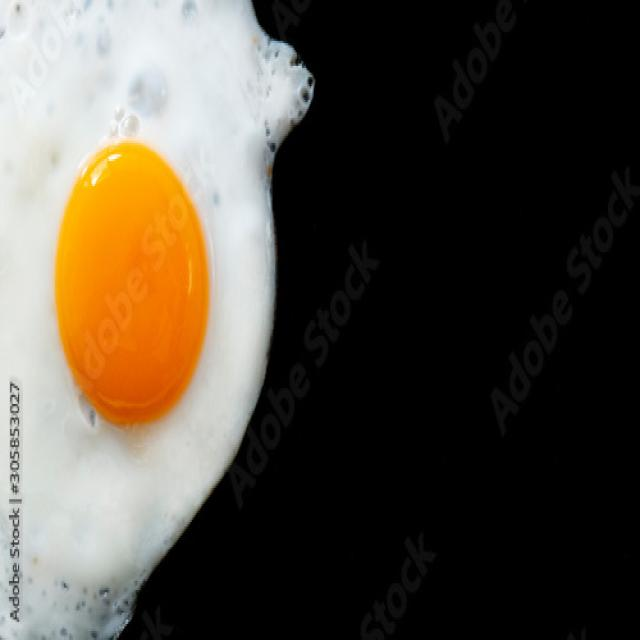Egg: (0, 2, 314, 637)
